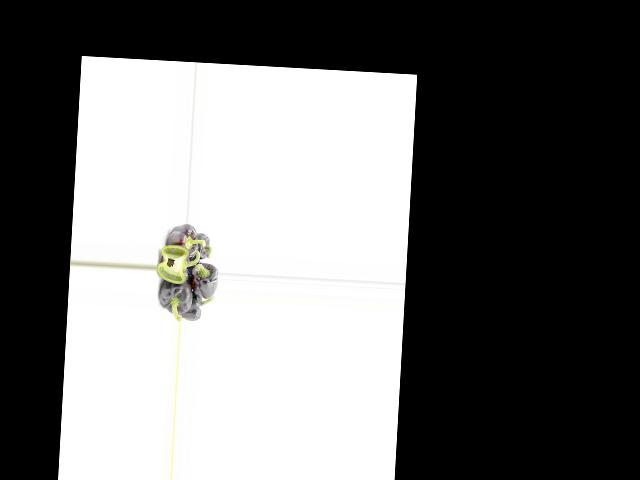bell_pepper: (167, 223, 199, 265)
